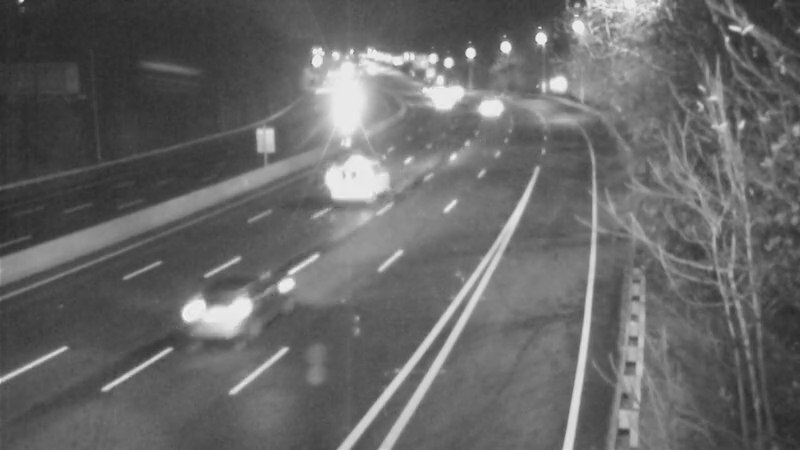vehicle: (171, 258, 281, 368), (310, 134, 390, 214), (401, 68, 451, 118), (430, 68, 480, 118), (419, 77, 469, 127), (463, 89, 513, 139)
